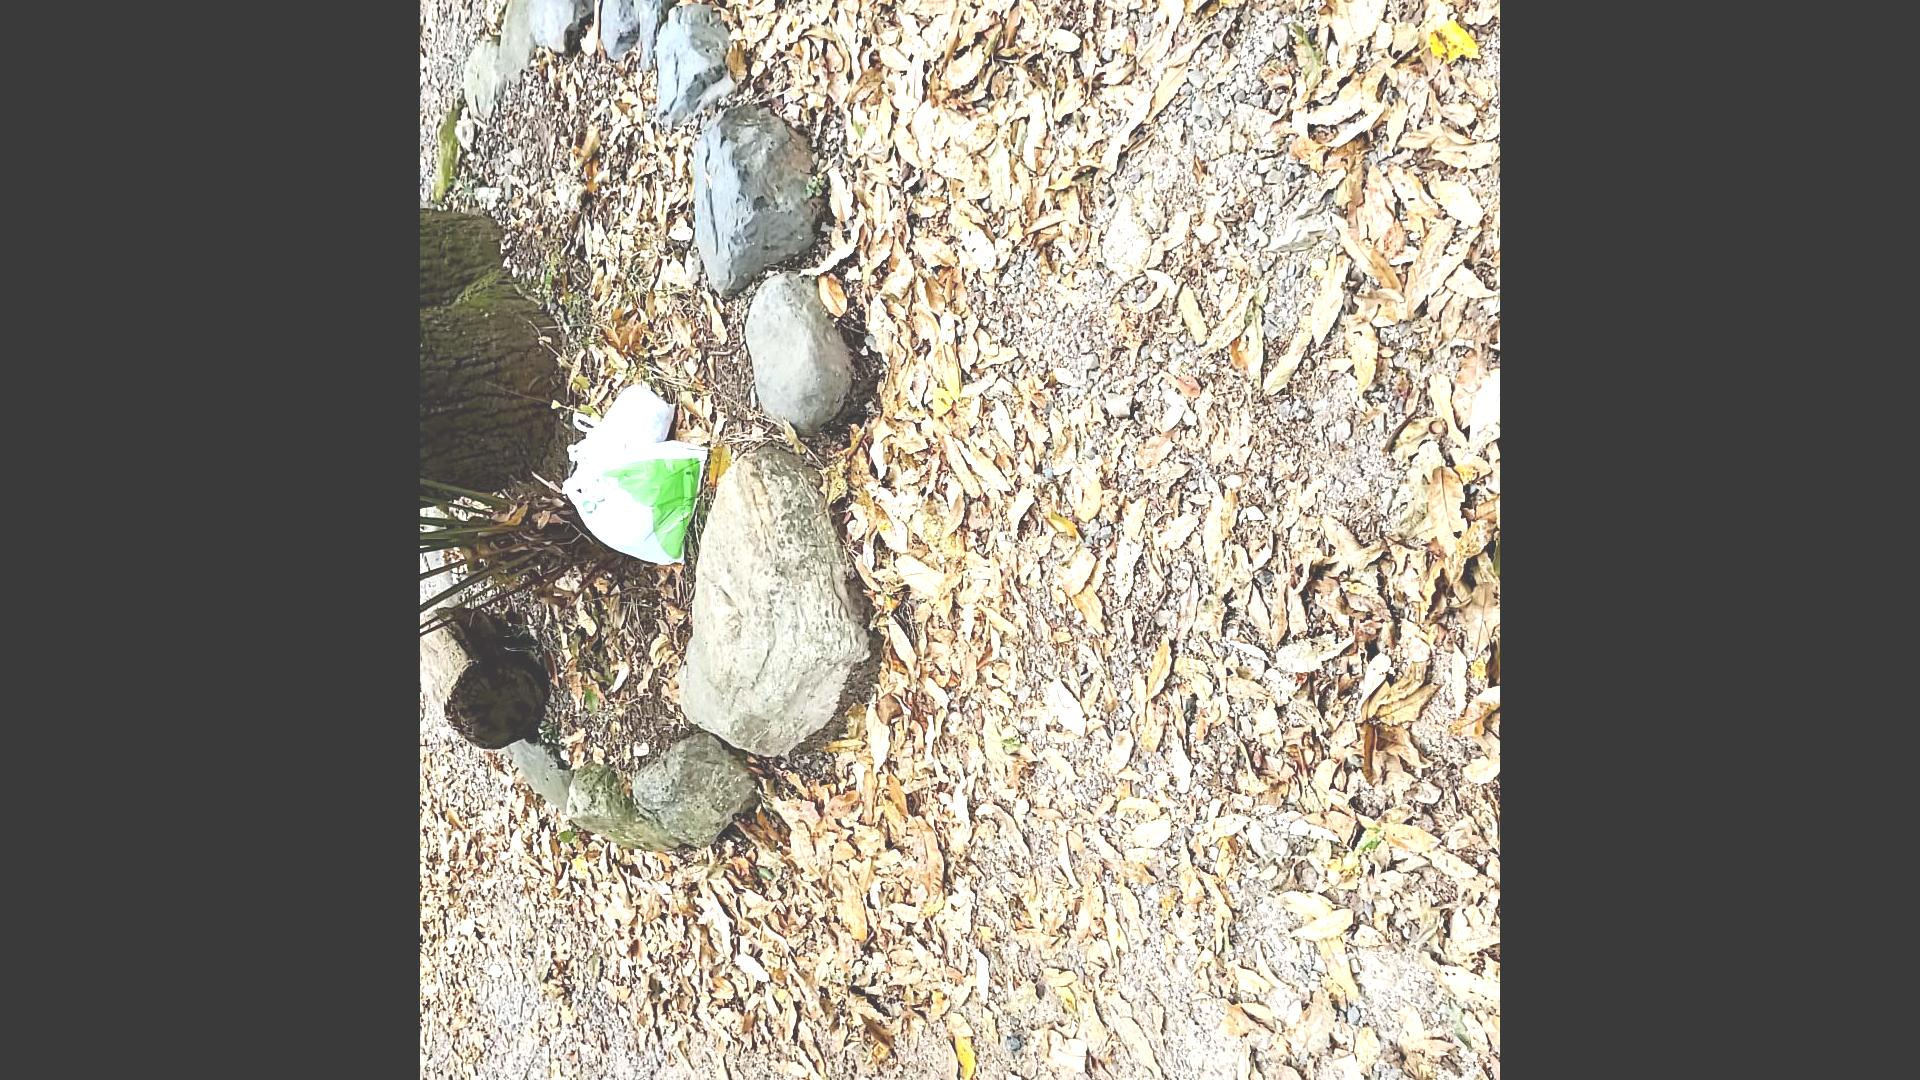white_bag: (554, 435, 712, 571), (564, 376, 680, 471)
